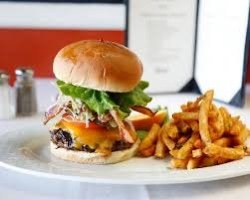soup: (40, 39, 164, 164)
